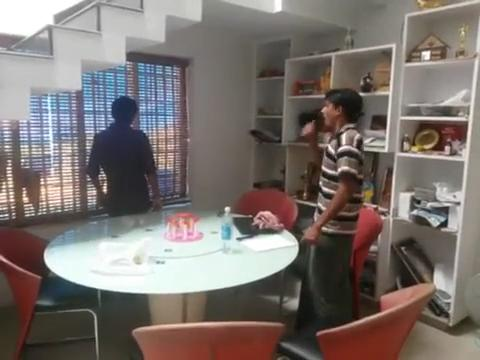chair: (1, 228, 100, 359), (278, 202, 383, 320), (275, 283, 436, 359), (232, 186, 298, 312), (131, 320, 285, 359)
closet_cabinet: (252, 1, 479, 327)
cup_glass_bottle: (162, 211, 204, 243)
floor: (1, 270, 480, 360), (1, 1, 202, 119)
paper_notebook: (232, 217, 296, 252)
person: (299, 87, 364, 328), (87, 96, 162, 217)
table_desk: (42, 207, 299, 324)
towel_s: (251, 209, 284, 231)
window: (1, 60, 187, 222)
